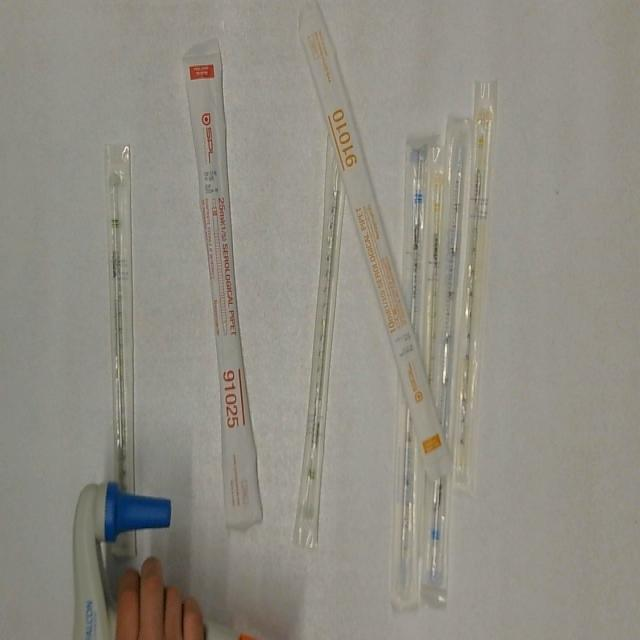Pipette Controller: (66, 480, 262, 640)
Serelogical Pipet 1 mL: (466, 72, 496, 482), (417, 144, 453, 408)
Serelogical Pipet 10 mL: (296, 0, 456, 484)
Serelogical Pipet 2 mL: (289, 126, 355, 553), (104, 134, 142, 564)
Serelogical Pipet 25 mL: (182, 35, 279, 534)
Serelogical Pipet 5 mL: (421, 116, 473, 592), (388, 132, 429, 614)
